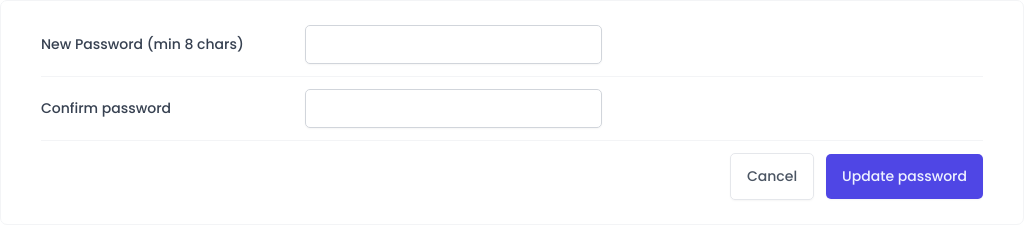
Test: UpdatePasswordForm › パスワード不一致でバリデーションエラーを表示する
This screenshot has width=1024, height=242.
Type "password123" into the password field labelled "New Password (min 8 chars)".
click(454, 44); type("password123")  # box [305,25,602,64]
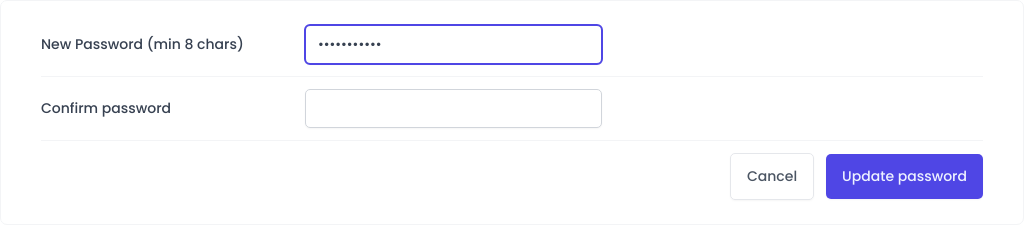
Type "different123" into the password field labelled "Confirm password".
click(454, 108); type("different123")  # box [305,89,602,128]
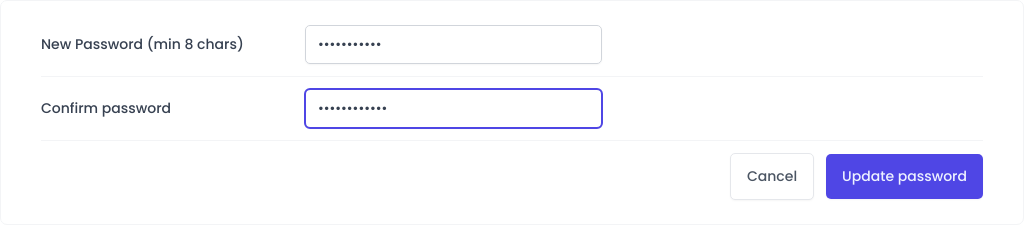
Click the button "Update password".
click(905, 176)  # box [826,154,983,199]
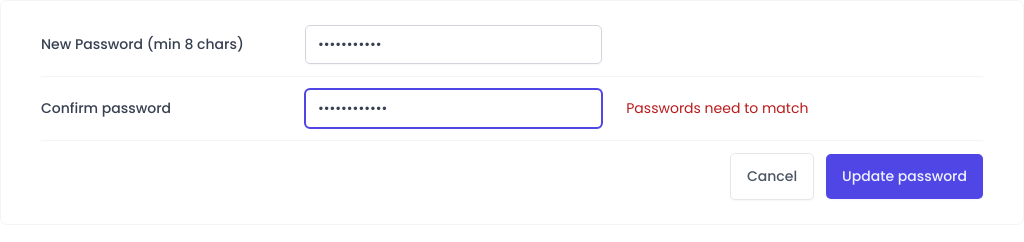
Now the text "Passwords need to match" is shown, box [626,98,808,118]
